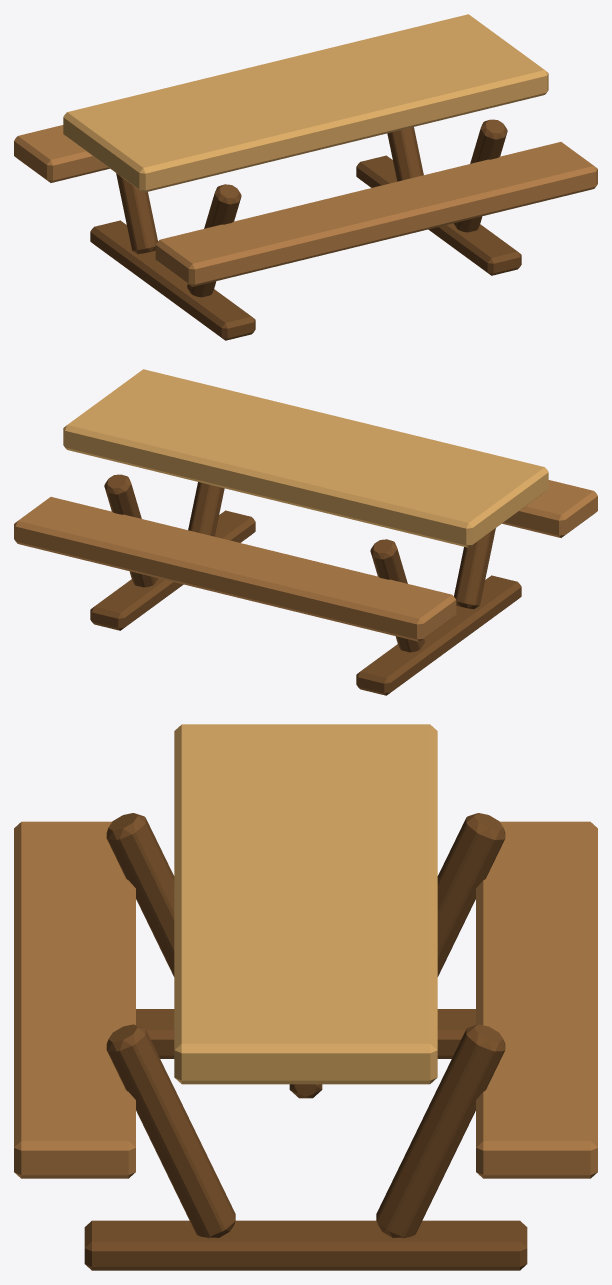
The model's file is FTF_Prop_WoodPicnicTable_2_4m.glb.
3 renders of one model, top to bottom at view 1: azimuth 30°, elevation 25°; view 2: azimuth 150°, elevation 25°; view 3: azimuth 270°, elevation 25°, orthographic. The views are drawn at different scales.
Parts seen in each view (by area): view 1: FTF_Prop_WoodPicnicTable_2_4m_Mesh; view 2: FTF_Prop_WoodPicnicTable_2_4m_Mesh; view 3: FTF_Prop_WoodPicnicTable_2_4m_Mesh.
Boxes of the visible parts, left/top/right/bottom form: FTF_Prop_WoodPicnicTable_2_4m_Mesh: left=14, top=14, right=597, bottom=340; FTF_Prop_WoodPicnicTable_2_4m_Mesh: left=14, top=369, right=597, bottom=695; FTF_Prop_WoodPicnicTable_2_4m_Mesh: left=14, top=724, right=597, bottom=1270.
Size of the model in its own units: 2.4 by 0.93 by 1.82.
